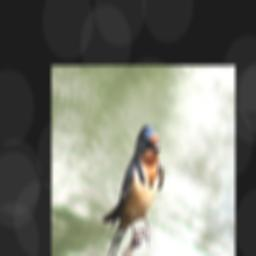Swallow: (104, 123, 165, 256)
